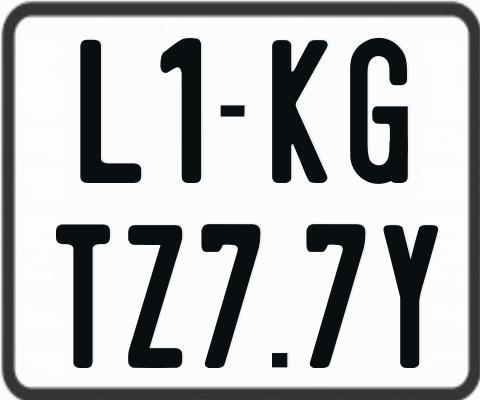1: (160, 36, 202, 183)
7: (303, 221, 368, 365), (200, 221, 261, 365)
G: (349, 37, 410, 184)
K: (270, 37, 328, 180)
L: (79, 37, 140, 186)
T: (56, 224, 115, 370)
Y: (381, 223, 439, 371)
Z: (127, 224, 184, 371)
